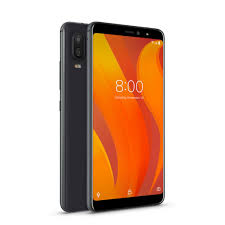vsmart: (56, 17, 166, 214)
